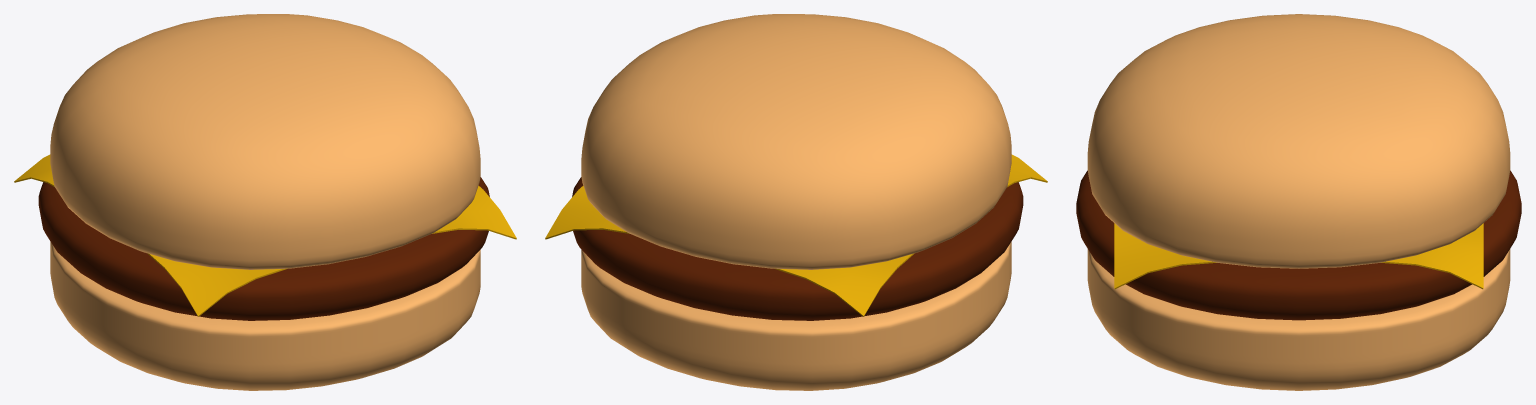
File: hamburguer.glb
3 views of the same model, side by side, from view 1: azimuth 30°, elevation 25°; view 2: azimuth 150°, elevation 25°; view 3: azimuth 270°, elevation 25° (orthographic).
Visible parts, largest first — view 1: Top-bun.001, Button-bun, Meat, Plane; view 2: Top-bun.001, Button-bun, Meat, Plane; view 3: Top-bun.001, Button-bun, Meat, Plane.
Part boxes in pixels (x1,y1,x2,y2): Top-bun.001: (50, 14, 480, 269); Button-bun: (50, 241, 480, 390); Meat: (38, 177, 489, 320); Plane: (14, 154, 516, 316); Top-bun.001: (581, 14, 1011, 269); Button-bun: (581, 241, 1011, 390); Meat: (572, 177, 1023, 320); Plane: (545, 154, 1047, 316); Top-bun.001: (1087, 14, 1510, 268); Button-bun: (1087, 249, 1510, 390); Meat: (1076, 170, 1521, 320); Plane: (1114, 223, 1483, 289).
Bounding box in the file's own units: 19.32 × 13.12 × 19.32.
